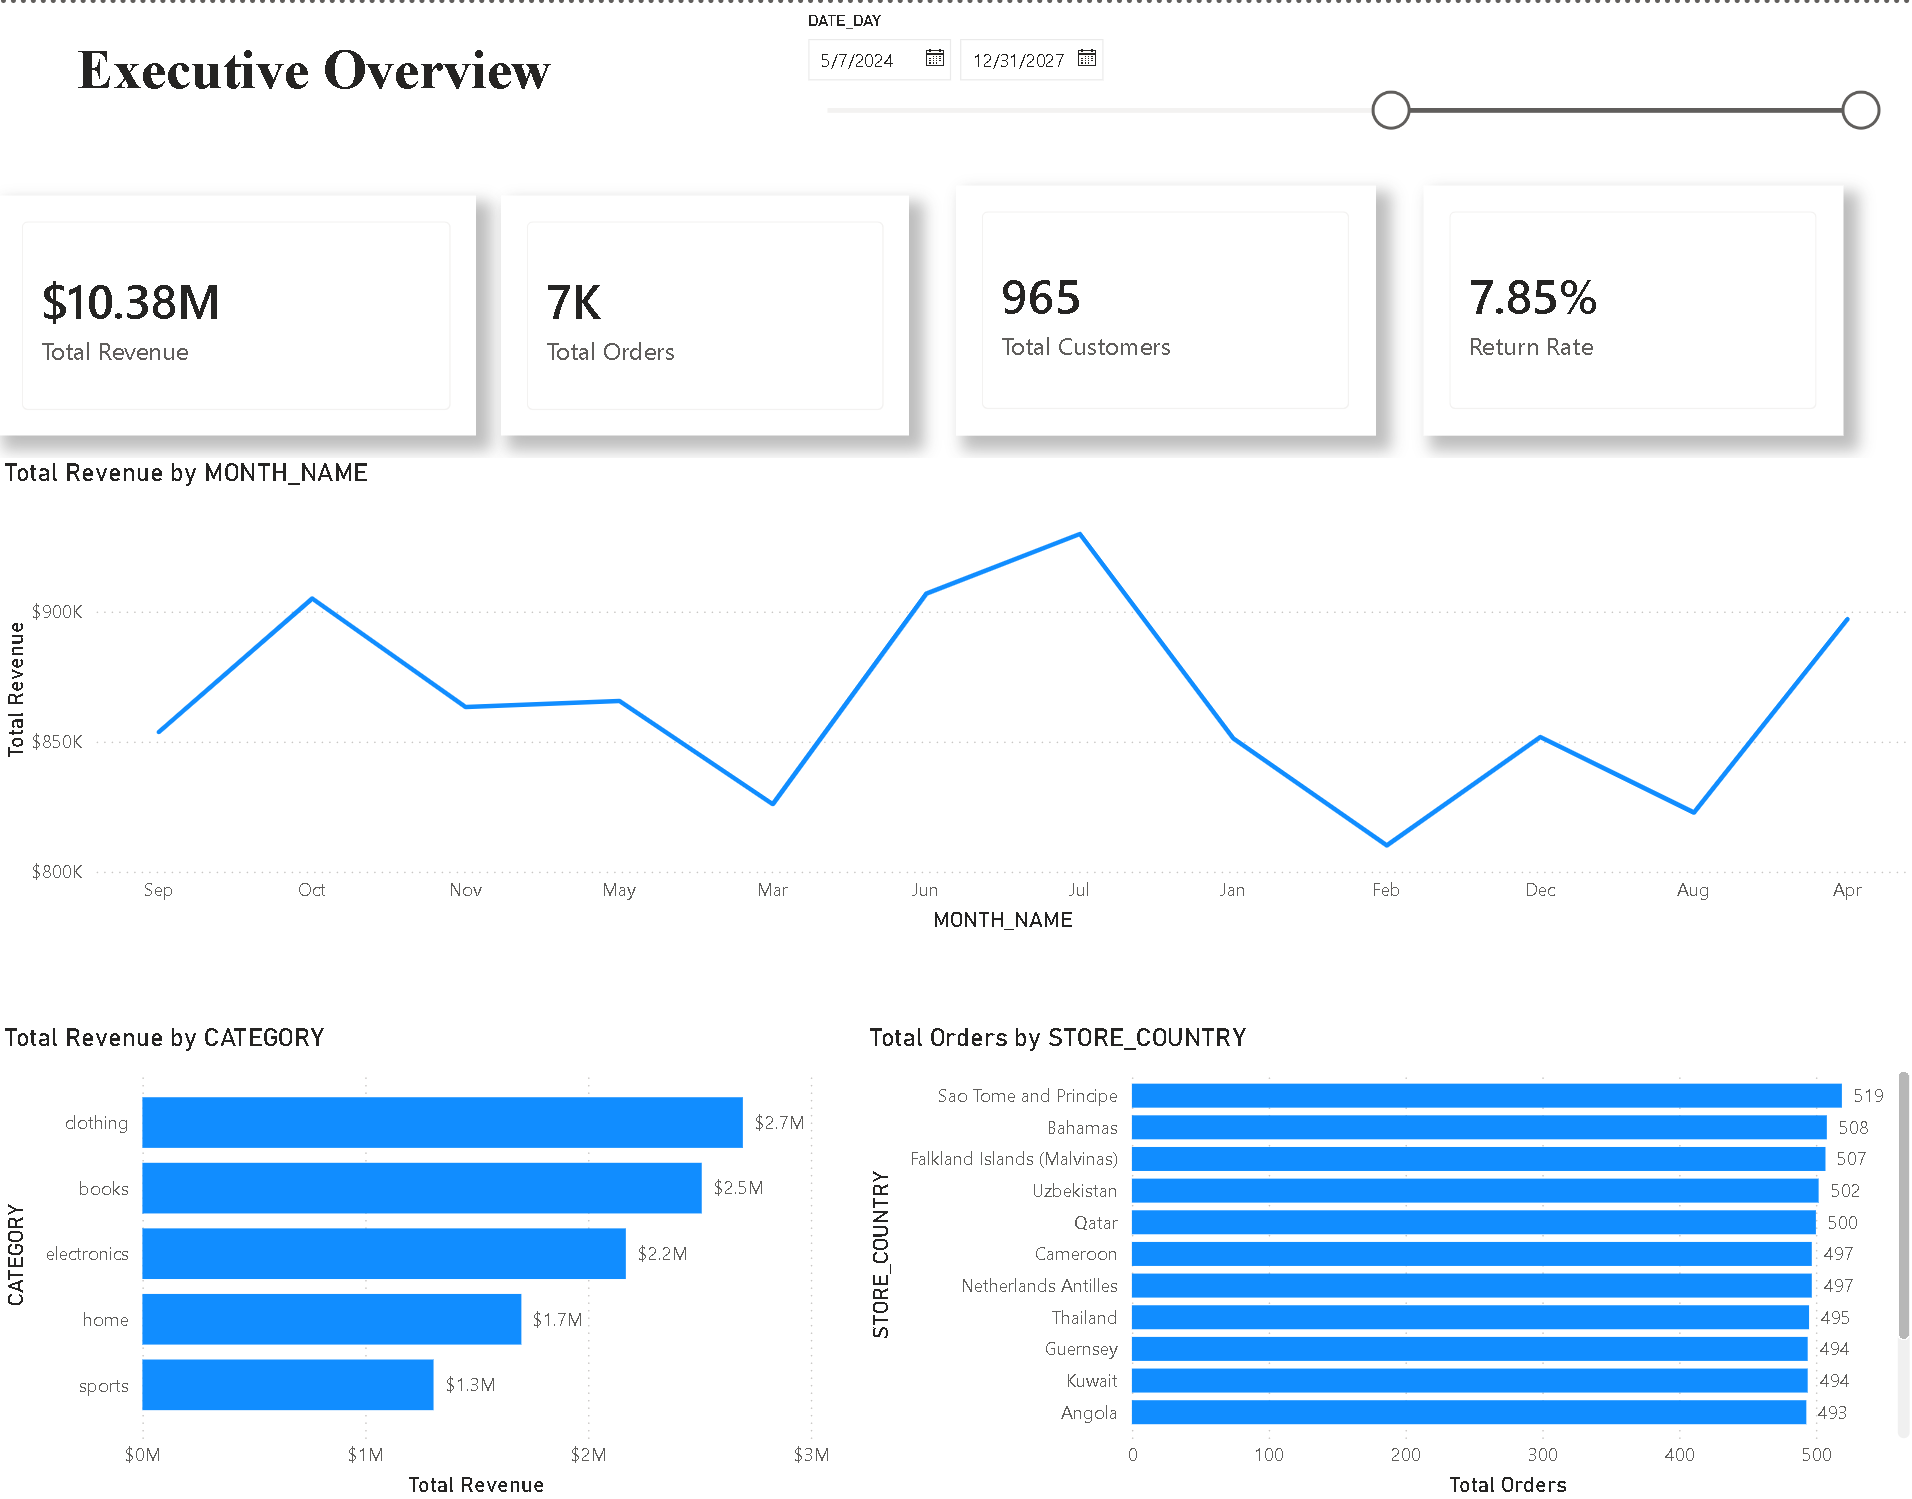

Layout of this report page (visuals, bound fields, positions):
{"tool":"powerbi","page":{"name":"Executive Overview","canvas":[1280,1000],"ordinal":0},"visuals":[{"type":"cardVisual","fields":{"Data":["_Measures.Total Revenue"]},"box":[0,128,320,160],"z":0},{"type":"cardVisual","fields":{"Data":["_Measures.Total Orders"]},"box":[336,128,272,160],"z":1000},{"type":"cardVisual","fields":{"Data":["_Measures.Total Customers"]},"box":[640.2,122.2,279.9,167],"z":2000},{"type":"cardVisual","fields":{"Data":["_Measures.Return Rate"]},"box":[951,122.2,279.9,167],"z":3000},{"type":"lineChart","fields":{"Category":["DIM_DATE.MONTH_NAME"],"Y":["_Measures.Total Revenue"]},"box":[0,304,1280,320],"z":4000},{"type":"clusteredBarChart","fields":{"Category":["DIM_PRODUCT.CATEGORY"],"Y":["_Measures.Total Revenue"]},"box":[0,680,560,320],"z":5000},{"type":"clusteredBarChart","fields":{"Y":["_Measures.Total Orders"],"Category":["DIM_STORE.STORE_COUNTRY"]},"box":[576,680,704,320],"z":6000},{"type":"slicer","fields":{"Values":["DIM_DATE.DATE_DAY"]},"box":[528,0,736,112],"z":7000},{"type":"textbox","box":[48,16,400,80],"z":8000}]}

Visuals, with their boxes in screenshot pixels (x1, y1, x2, y2), scaled from the page's 1280x1000 canvas onto the 1912x1499 screenshot:
cardVisual - _Measures.Total Revenue: [0,192,478,432]
cardVisual - _Measures.Total Orders: [502,192,908,432]
cardVisual - _Measures.Total Customers: [956,183,1374,434]
cardVisual - _Measures.Return Rate: [1421,183,1839,434]
lineChart - DIM_DATE.MONTH_NAME x _Measures.Total Revenue: [0,456,1911,935]
clusteredBarChart - DIM_PRODUCT.CATEGORY x _Measures.Total Revenue: [0,1019,836,1498]
clusteredBarChart - _Measures.Total Orders x DIM_STORE.STORE_COUNTRY: [860,1019,1911,1498]
slicer - DIM_DATE.DATE_DAY: [789,0,1888,168]
textbox: [72,24,669,144]
